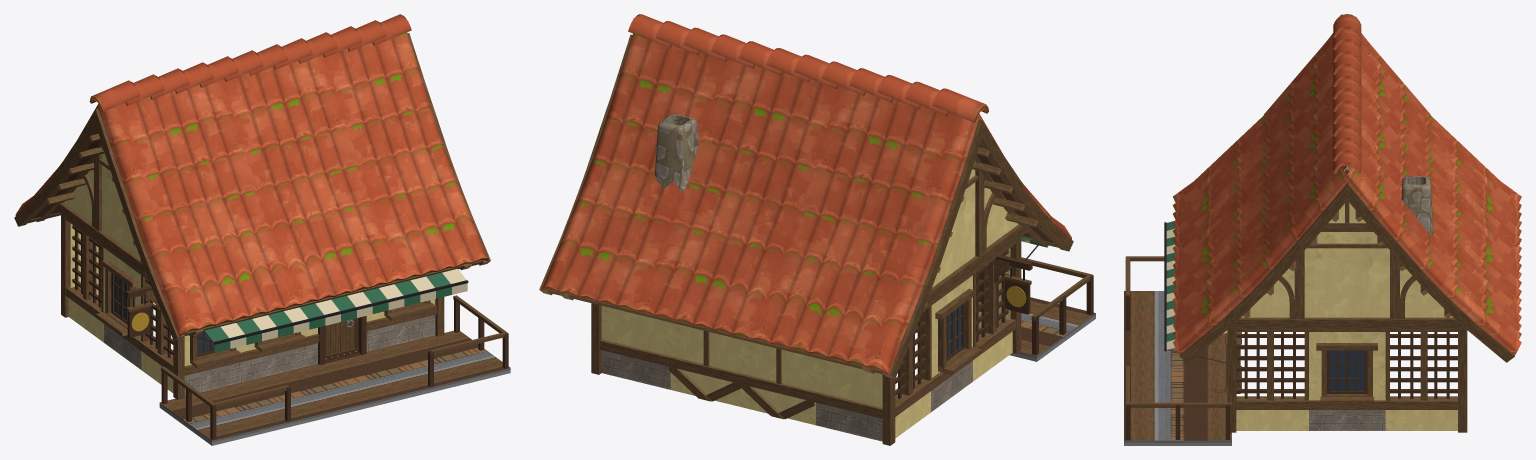
Rendered from boardwalk_cafe.glb.
3 views of the same model, side by side, from view 1: azimuth 30°, elevation 25°; view 2: azimuth 150°, elevation 25°; view 3: azimuth 270°, elevation 25° (orthographic). The views are drawn at different scales.
Parts seen in each view (by area): view 1: Roof_RoundTiles_6x8.026, Deck.034, Roof_Front_Brick6.027, Wall_Plaster_WoodGrid.014, Awning.029, Awning.030, Wall_Plaster_WoodGrid.017, Wall_Plaster_Window_Wide_Flat.003, Wall_Plaster_Window_Wide_Flat.008, Window_Wide_Flat1.016, Wall_Plaster_Window_Wide_Flat.001, Wall_Plaster_Window_Wide_Flat.015 (+9 smaller); view 2: Roof_RoundTiles_6x8.026, Roof_Front_Brick6.027, Wall_Plaster_Straight.011, Wall_Plaster_Straight.012, Wall_Plaster_Straight_Base.010, Wall_Plaster_Straight_Base.013, Wall_Plaster_WoodGrid.017, Wall_Plaster_WoodGrid.014, Prop_Chimney2.056, Window_Wide_Flat1.016, Deck.034, Wall_Plaster_Window_Wide_Flat.015 (+3 smaller); view 3: Roof_RoundTiles_6x8.026, Roof_Front_Brick6.028, Deck.034, Wall_Plaster_WoodGrid.021, Wall_Plaster_WoodGrid.018, Wall_Plaster_Window_Wide_Flat.019, Window_Wide_Flat1.020, Prop_Chimney2.056, Corner_Exterior_Wood.025, Corner_Exterior_Wood.023, Window_Wide_Flat1.009, Beam.042 (+2 smaller).
Boxes of the visible parts, x1,y1,x2,y2 form: Roof_RoundTiles_6x8.026: [14, 14, 490, 340]; Deck.034: [159, 330, 510, 445]; Roof_Front_Brick6.027: [46, 133, 147, 276]; Wall_Plaster_WoodGrid.014: [65, 217, 103, 342]; Awning.029: [205, 272, 451, 352]; Awning.030: [221, 269, 467, 348]; Wall_Plaster_WoodGrid.017: [138, 270, 173, 392]; Wall_Plaster_Window_Wide_Flat.003: [244, 330, 310, 381]; Wall_Plaster_Window_Wide_Flat.008: [373, 299, 436, 349]; Window_Wide_Flat1.016: [96, 259, 137, 336]; Wall_Plaster_Window_Wide_Flat.001: [184, 335, 245, 395]; Wall_Plaster_Window_Wide_Flat.015: [101, 243, 141, 369]; Roof_RoundTiles_6x8.026: [539, 14, 1073, 378]; Roof_Front_Brick6.027: [924, 147, 1037, 307]; Wall_Plaster_Straight.011: [669, 322, 743, 407]; Wall_Plaster_Straight.012: [741, 340, 815, 425]; Wall_Plaster_Straight_Base.010: [599, 306, 670, 389]; Wall_Plaster_Straight_Base.013: [814, 358, 882, 441]; Wall_Plaster_WoodGrid.017: [973, 241, 1015, 381]; Wall_Plaster_WoodGrid.014: [895, 300, 934, 438]; Prop_Chimney2.056: [654, 114, 698, 191]; Window_Wide_Flat1.016: [935, 288, 981, 374]; Deck.034: [917, 297, 1095, 361]; Wall_Plaster_Window_Wide_Flat.015: [931, 270, 976, 411]; Roof_RoundTiles_6x8.026: [1172, 14, 1521, 362]; Roof_Front_Brick6.028: [1229, 166, 1465, 328]; Deck.034: [1124, 291, 1231, 445]; Wall_Plaster_WoodGrid.021: [1385, 328, 1457, 430]; Wall_Plaster_WoodGrid.018: [1236, 328, 1308, 430]; Wall_Plaster_Window_Wide_Flat.019: [1309, 328, 1385, 430]; Window_Wide_Flat1.020: [1316, 343, 1377, 403]; Prop_Chimney2.056: [1401, 176, 1433, 235]; Corner_Exterior_Wood.025: [1458, 328, 1467, 432]; Corner_Exterior_Wood.023: [1227, 328, 1236, 432]; Window_Wide_Flat1.009: [1215, 332, 1241, 392]; Beam.042: [1126, 402, 1231, 407].
Bounding box in the file's own units: 9.85 × 8.16 × 10.34.
12 materials, 7 textured.
